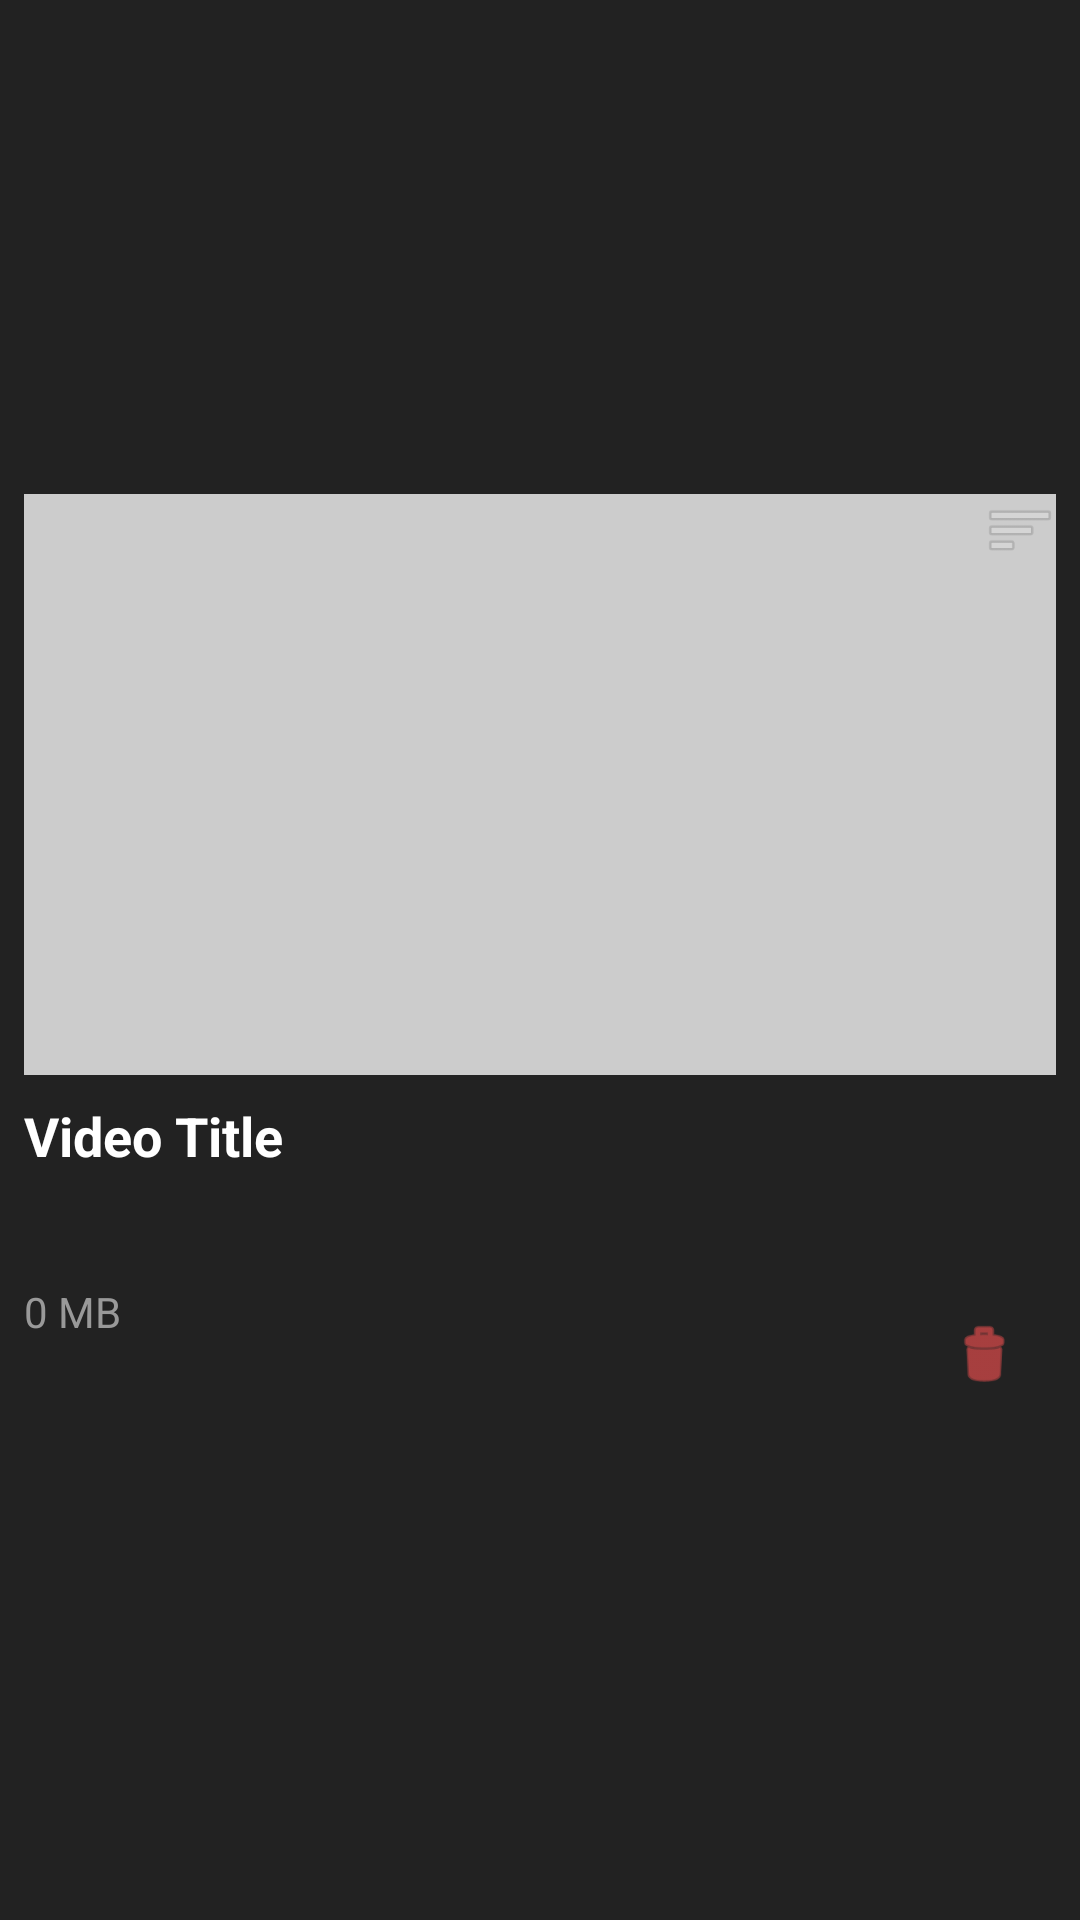

Screen size 1080w x 1920h. Icon name, then its center in pixels as point (x, y):
delete: point (984, 1354)
